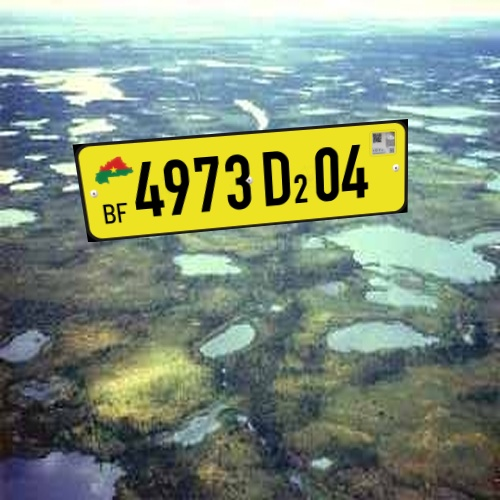plate: (57, 110, 433, 255)
